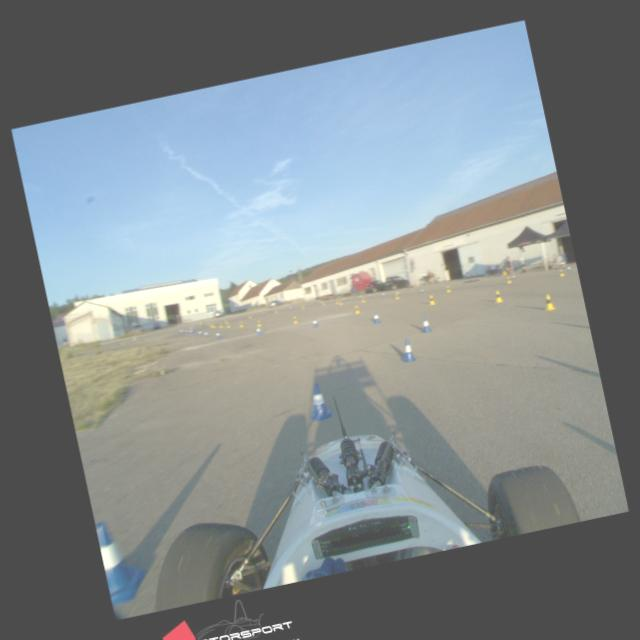blue_cone: (94, 513, 152, 604), (302, 381, 334, 423), (396, 337, 416, 362), (420, 316, 432, 334), (372, 311, 381, 324), (311, 316, 319, 328)
yellow_cone: (540, 292, 556, 312), (492, 288, 504, 304), (427, 294, 435, 305), (352, 304, 360, 314)
